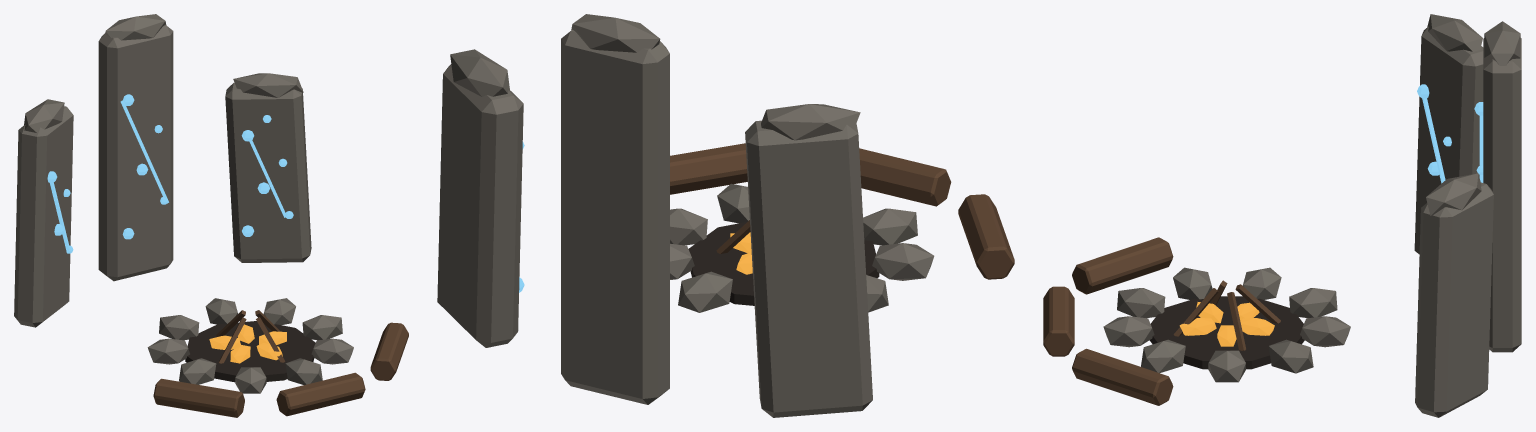
Rendered from exo-vellstones.glb.
3 views of the same model, side by side, from view 1: azimuth 30°, elevation 25°; view 2: azimuth 150°, elevation 25°; view 3: azimuth 270°, elevation 25° (orthographic). The views are drawn at different scales.
Visible parts, largest first — view 1: body; view 2: body; view 3: body.
Boxes of the visible parts, x1=… form: body: x1=14, y1=14, x2=408, y2=417; body: x1=437, y1=14, x2=1014, y2=417; body: x1=1043, y1=14, x2=1521, y2=417.
Bounding box in the file's own units: 5.32 × 4.46 × 6.25.
